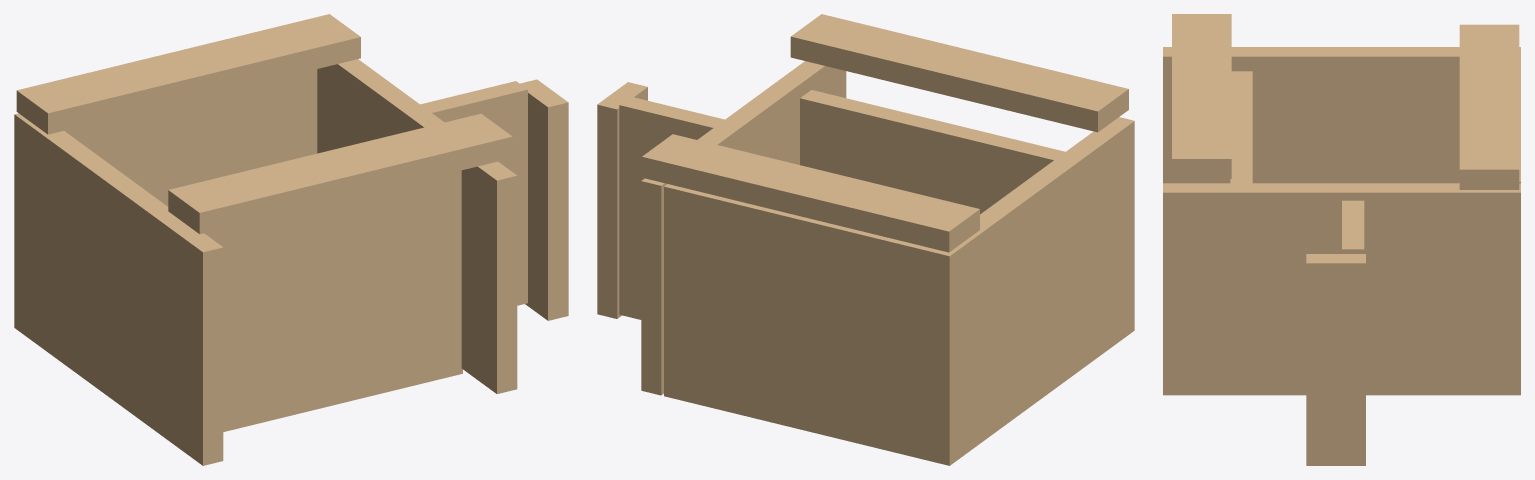
Rendered from tinker.obj.
The picture shows the model from 3 angles, left to right: view 1: azimuth 30°, elevation 25°; view 2: azimuth 150°, elevation 25°; view 3: azimuth 270°, elevation 25°; orthographic projection. The views are drawn at different scales.
Parts seen in each view (by area): view 1: obj_0; view 2: obj_0; view 3: obj_0.
Boxes of the visible parts, bbox=[...] form: obj_0: bbox=[14, 14, 568, 465]; obj_0: bbox=[597, 14, 1134, 465]; obj_0: bbox=[1163, 14, 1520, 465].
Bounding box in the file's own units: 324 × 184 × 240.
